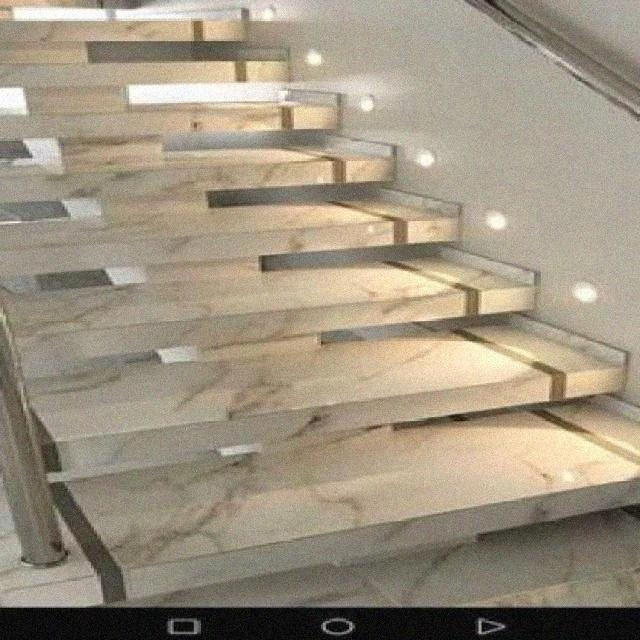stair: (3, 0, 639, 608)
